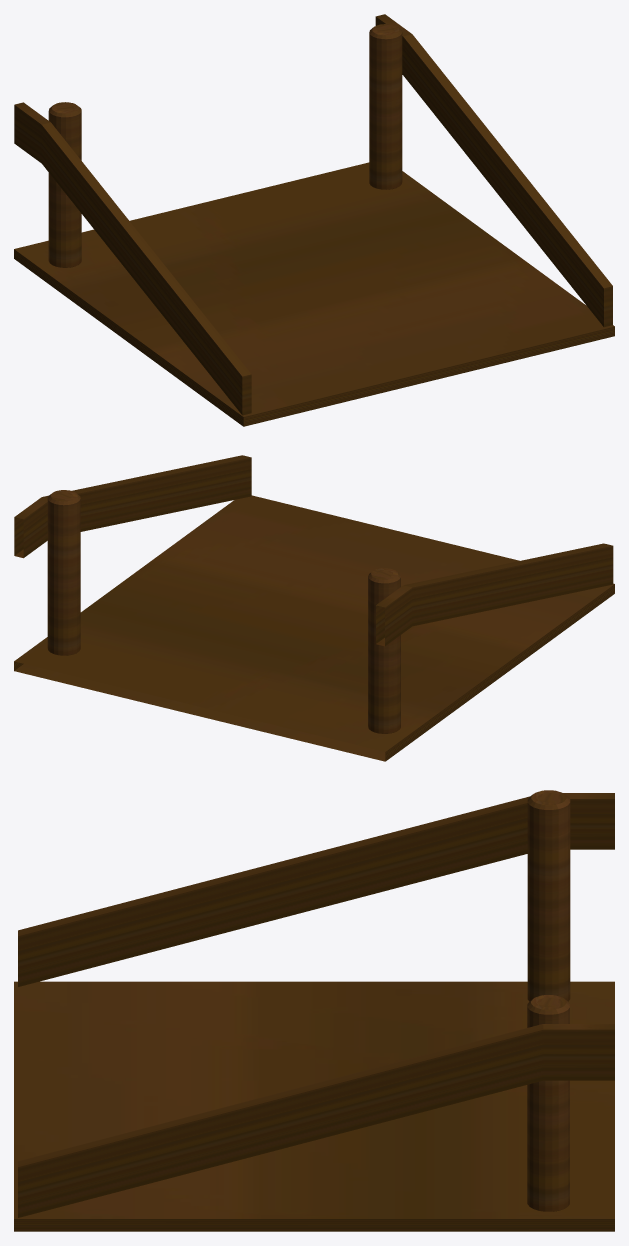
The model's file is Bridge_PartZ.FBX.
The picture shows the model from 3 angles, top to bottom: view 1: azimuth 30°, elevation 25°; view 2: azimuth 150°, elevation 25°; view 3: azimuth 270°, elevation 25°; orthographic projection. The views are drawn at different scales.
Parts seen in each view (by area): view 1: SplitAchter; view 2: SplitAchter; view 3: SplitAchter.
Part boxes in pixels (box(x1,y1,x2,y2)): SplitAchter: box(14, 14, 614, 426); SplitAchter: box(14, 455, 614, 761); SplitAchter: box(14, 790, 614, 1231).
Bounding box in the file's own units: 5 × 2.1 × 5.35.
Materials: 1 (1 with a texture image).
